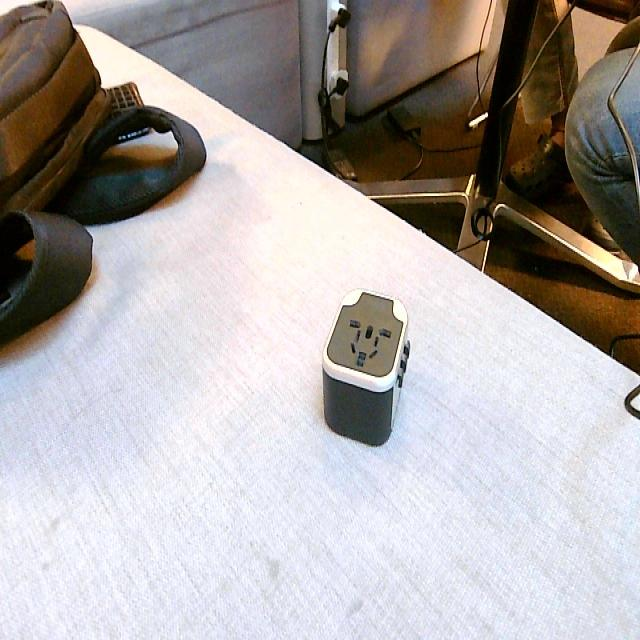adapter: (320, 286, 411, 446)
